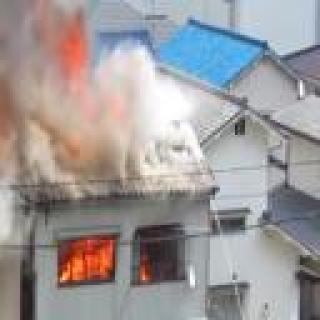fire: (43, 25, 127, 147), (62, 233, 125, 287)
